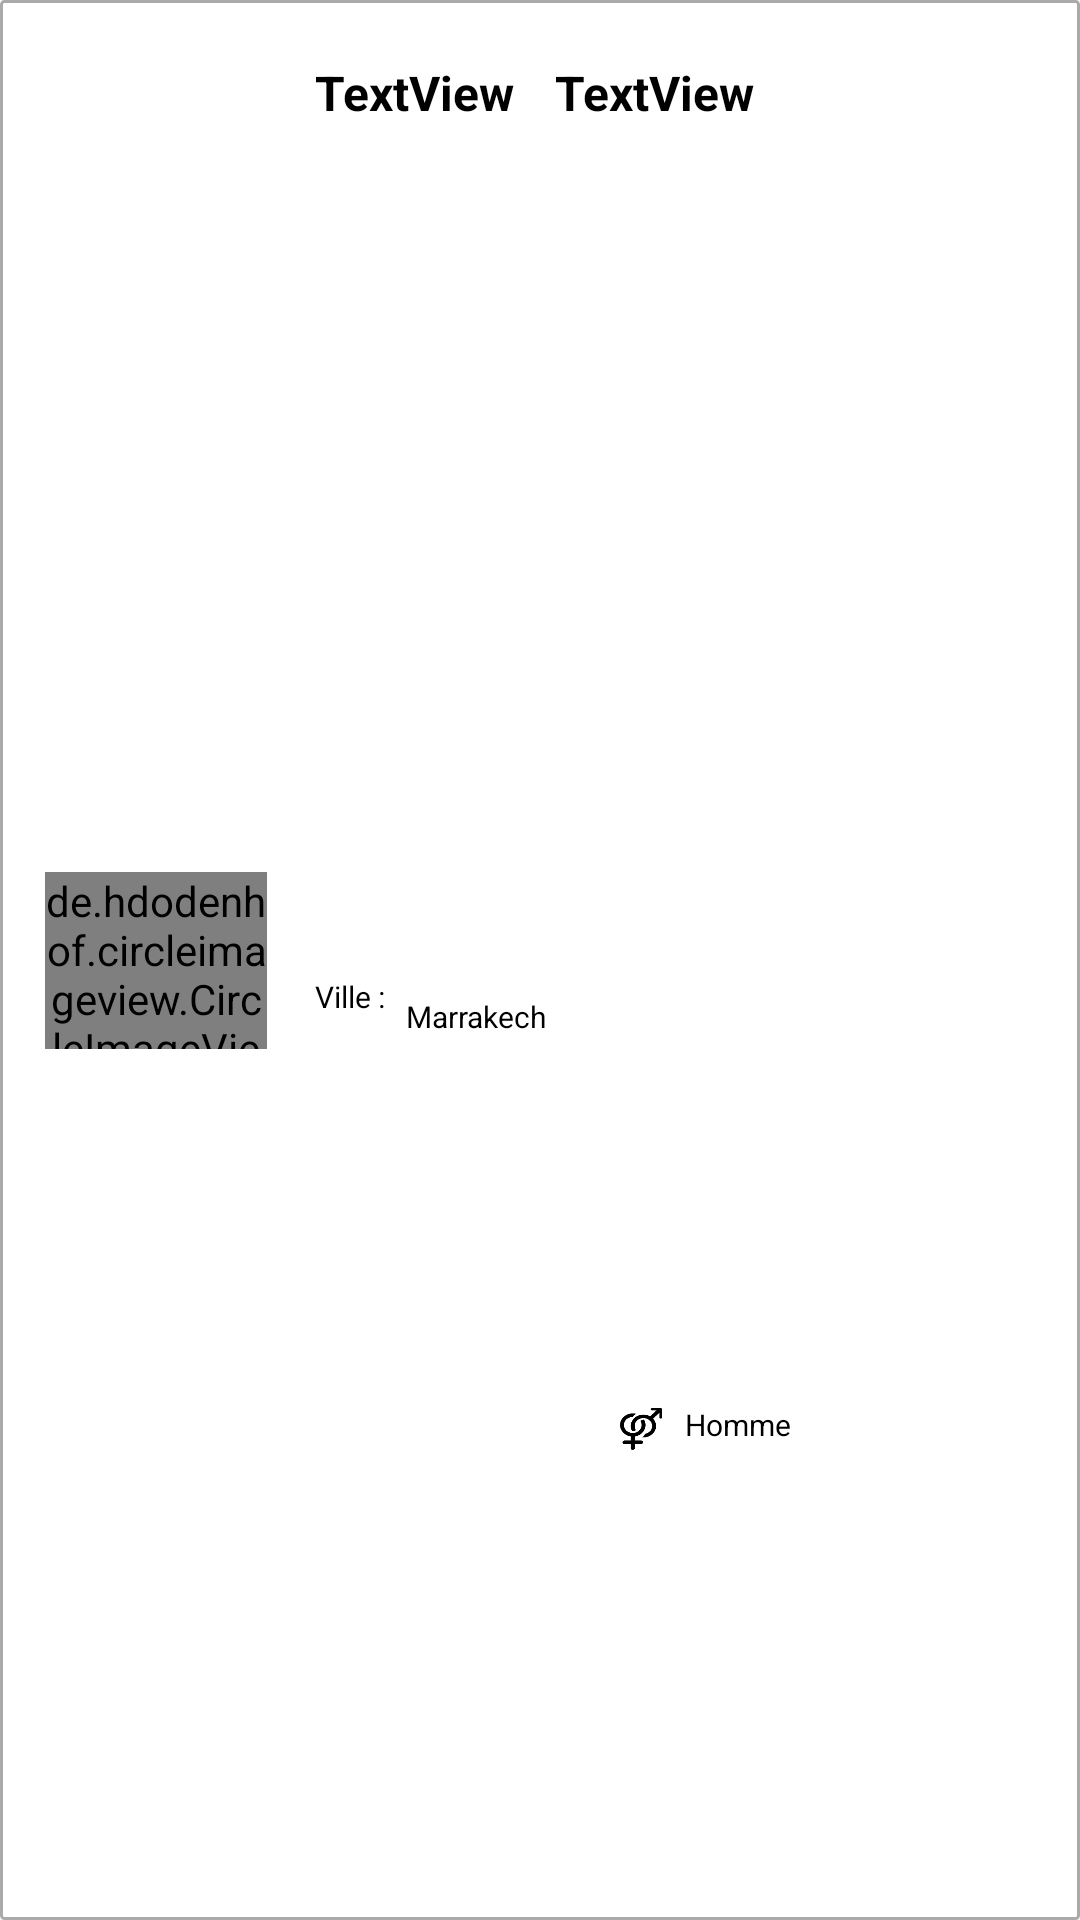

Where icons sit on this 1080*1920 app screen, as (x1, y1, x2, y2):
sexe: (620, 1408, 662, 1450)
